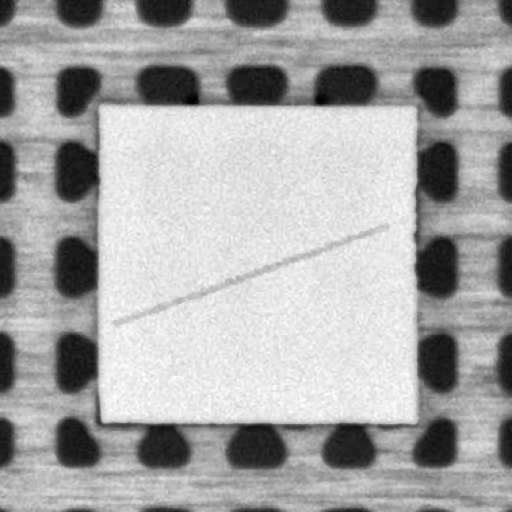DIE_CRACK: (112, 225, 386, 324)
